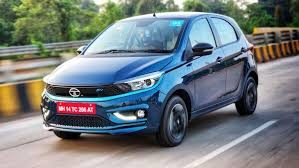Tiago: (36, 10, 261, 147)
